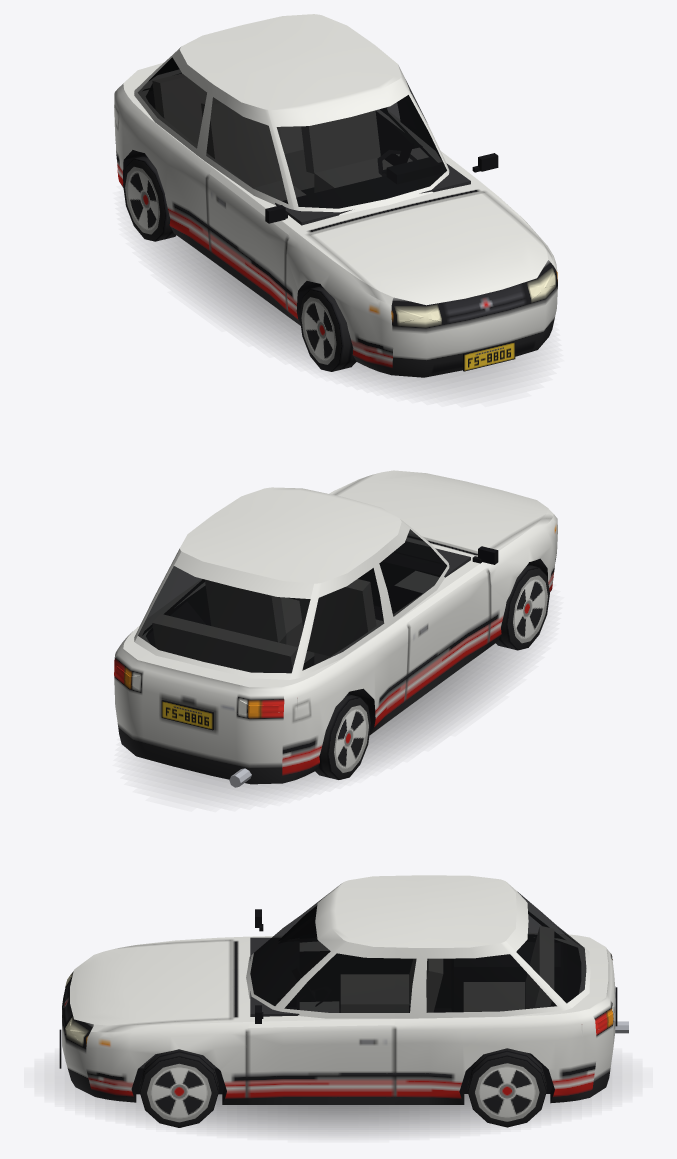
Rendered from fosforo.glb.
3 views of the same model, one above another, from view 1: azimuth 30°, elevation 25°; view 2: azimuth 150°, elevation 25°; view 3: azimuth 270°, elevation 25° (orthographic). The views are drawn at different scales.
Visible parts, largest first — view 1: Carroceria, Interior, Capo_malha, Porta_D_malha, Sombra, Roda_DD, Roda_TD, Porta_E_malha; view 2: Carroceria, Tampa_malha, Interior, Porta_D_malha, Capo_malha, Sombra, Roda_TD, Roda_DD, Lanterna; view 3: Carroceria, Interior, Porta_E_malha, Capo_malha, Sombra, Tampa_malha, Roda_TE, Roda_DE, Porta_D_malha.
Part boxes in pixels (<box>): Carroceria: <box>114,14,557,377</box>; Interior: <box>143,73,470,225</box>; Capo_malha: <box>308,192,553,305</box>; Porta_D_malha: <box>206,94,293,309</box>; Sombra: <box>149,236,533,391</box>; Roda_DD: <box>299,286,356,371</box>; Roda_TD: <box>123,155,176,241</box>; Porta_E_malha: <box>397,65,498,172</box>; Carroceria: <box>114,473,557,787</box>; Tampa_malha: <box>135,551,313,760</box>; Interior: <box>143,542,470,672</box>; Porta_D_malha: <box>387,521,498,699</box>; Capo_malha: <box>334,470,553,552</box>; Sombra: <box>143,643,527,796</box>; Roda_TD: <box>315,694,370,779</box>; Roda_DD: <box>496,564,549,650</box>; Lanterna: <box>116,666,297,714</box>; Carroceria: <box>59,875,628,1104</box>; Interior: <box>139,911,580,1068</box>; Porta_E_malha: <box>247,941,395,1097</box>; Capo_malha: <box>75,940,231,1032</box>; Sombra: <box>64,1065,612,1134</box>; Tampa_malha: <box>506,882,617,1043</box>; Roda_TE: <box>467,1048,546,1127</box>; Roda_DE: <box>139,1049,218,1127</box>; Porta_D_malha: <box>255,906,316,940</box>.
Size of the model in its own units: 2.32 by 1.39 by 4.75.
Materials: 12 (6 with a texture image).
